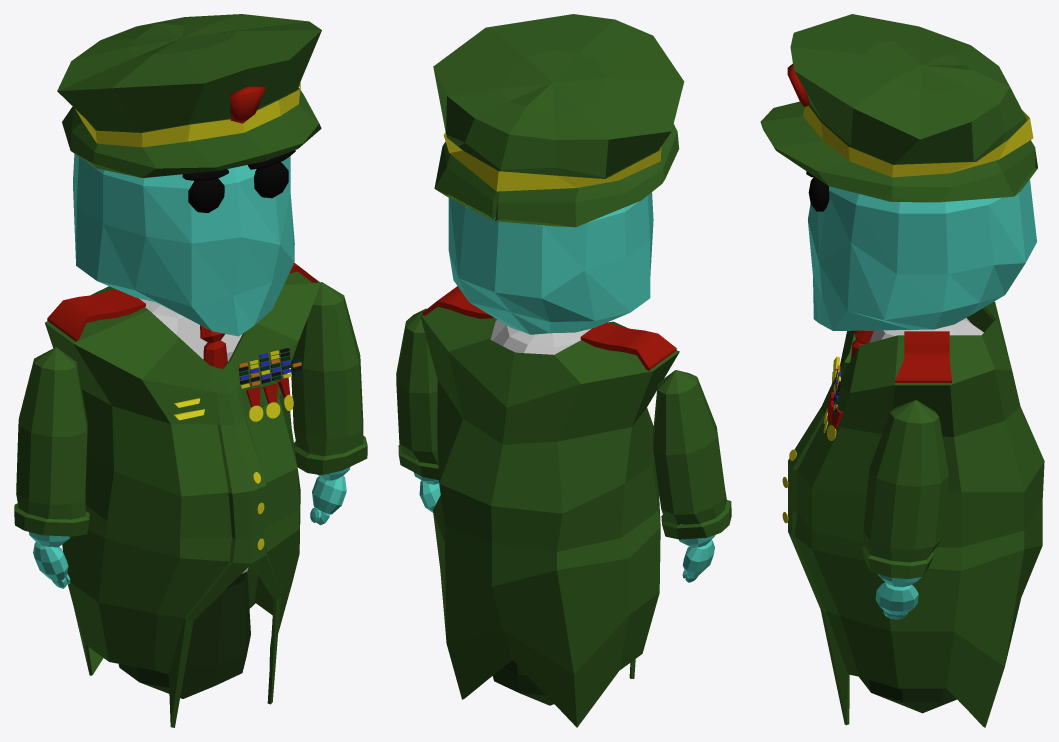
Rendered from General03.FBX.
The picture shows the model from 3 angles, left to right: view 1: azimuth 30°, elevation 25°; view 2: azimuth 150°, elevation 25°; view 3: azimuth 270°, elevation 25°; orthographic projection. The views are drawn at different scales.
Visible parts, largest first — view 1: Coat, Hat, Head, Sphere018, Sphere011, Sphere026, Hat001, Box004, Sphere002, Sphere004, Sphere012, Sphere009 (+3 smaller); view 2: Coat, Hat, Head, Sphere018, Sphere011, Box004, Hat001, Sphere002, Sphere026, Sphere020; view 3: Coat, Hat, Head, Sphere011, Hat001, Box004, Sphere026, Sphere004, Sphere002, Sphere009.
Part boxes in pixels (<box>): Coat: <box>45,271,320,727</box>; Hat: <box>57,14,321,177</box>; Head: <box>73,154,294,336</box>; Sphere018: <box>14,347,89,536</box>; Sphere011: <box>290,282,367,475</box>; Sphere026: <box>118,571,250,698</box>; Hat001: <box>75,82,300,147</box>; Box004: <box>47,263,317,341</box>; Sphere002: <box>139,298,248,573</box>; Sphere004: <box>312,475,346,514</box>; Sphere012: <box>188,178,224,213</box>; Sphere009: <box>254,162,288,198</box>; Coat: <box>420,307,679,727</box>; Hat: <box>433,14,684,227</box>; Head: <box>448,192,653,334</box>; Sphere018: <box>652,370,731,539</box>; Sphere011: <box>396,308,438,480</box>; Box004: <box>422,286,676,370</box>; Hat001: <box>443,132,661,191</box>; Sphere002: <box>490,320,591,354</box>; Sphere026: <box>493,660,553,705</box>; Sphere020: <box>682,539,714,576</box>; Coat: <box>788,301,1044,727</box>; Hat: <box>760,14,1037,202</box>; Head: <box>808,179,1036,330</box>; Sphere011: <box>862,400,948,578</box>; Hat001: <box>803,105,1033,177</box>; Box004: <box>895,331,951,383</box>; Sphere026: <box>859,676,956,713</box>; Sphere004: <box>875,582,918,615</box>; Sphere002: <box>868,318,983,343</box>; Sphere009: <box>808,177,829,211</box>.
Bounding box in the file's own units: 35.73 × 68 × 26.33.
